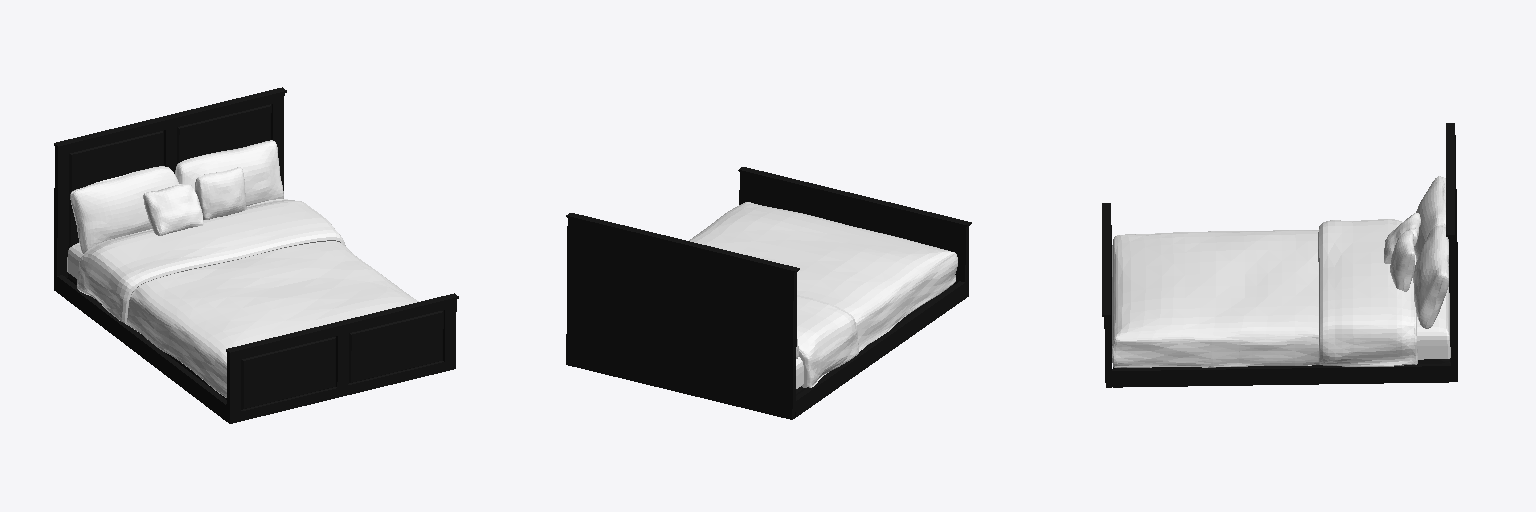
The model's file is bed.obj.
The picture shows the model from 3 angles: view 1: azimuth 30°, elevation 25°; view 2: azimuth 150°, elevation 25°; view 3: azimuth 270°, elevation 25°; orthographic projection.
Parts seen in each view (by area): view 1: Box14544, Box14540, Box14541, Box14543, Box14539, Box14546, Box14548, Box14547; view 2: Box14541, Box14544, Box14540, Box14539; view 3: Box14544, Box14538, Box14546, Box14541, Box14540, Box14542, Box14543, Box14547, Box14548.
Boxes of the visible parts, x1,y1,x2,y2 form: Box14544: [77, 199, 418, 397]; Box14540: [226, 293, 458, 423]; Box14541: [54, 87, 286, 291]; Box14543: [70, 166, 178, 253]; Box14539: [57, 275, 226, 420]; Box14546: [175, 140, 283, 205]; Box14548: [143, 184, 203, 235]; Box14547: [195, 167, 246, 219]; Box14541: [566, 213, 799, 419]; Box14544: [689, 202, 957, 387]; Box14540: [738, 167, 971, 298]; Box14539: [795, 281, 964, 417]; Box14544: [1112, 219, 1417, 367]; Box14538: [1112, 363, 1451, 387]; Box14546: [1413, 226, 1448, 328]; Box14541: [1446, 123, 1457, 381]; Box14540: [1102, 203, 1111, 387]; Box14542: [1112, 245, 1450, 362]; Box14543: [1414, 176, 1445, 259]; Box14547: [1390, 231, 1414, 291]; Box14548: [1384, 213, 1420, 263].
Bounding box in the file's own units: 149 × 94.99 × 200.